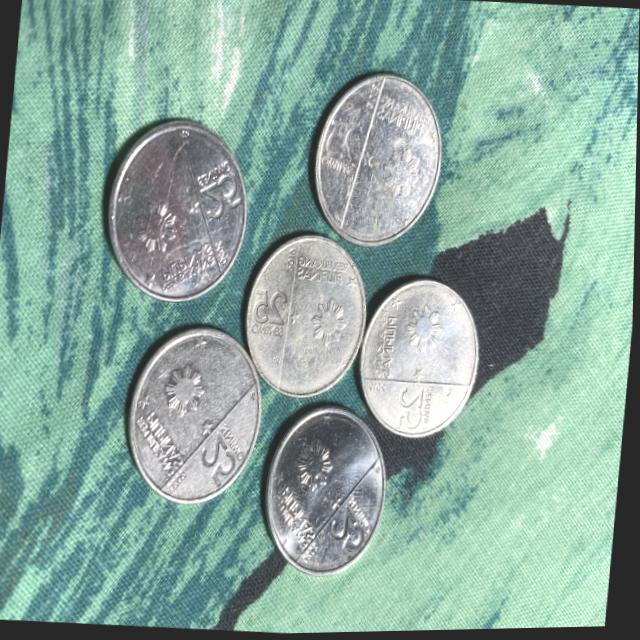25Cent_New_Front: (200, 434, 239, 487), (331, 508, 369, 557), (202, 176, 240, 223), (329, 113, 364, 163), (253, 286, 291, 332), (395, 387, 426, 430)
